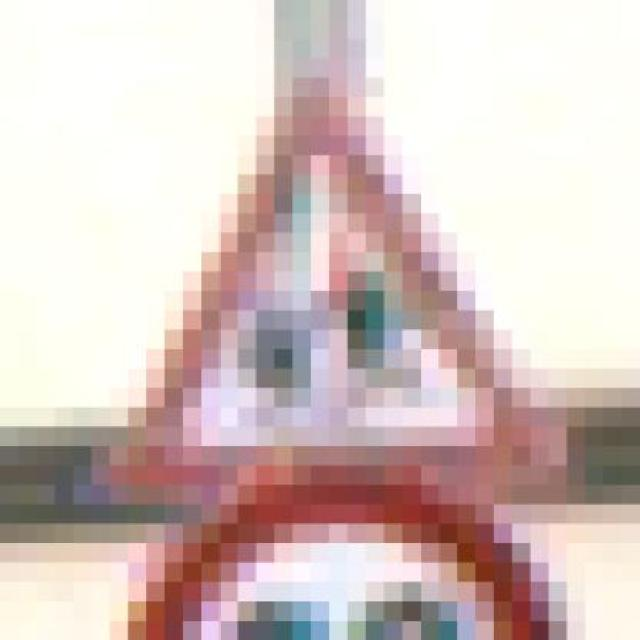Beware of children: (73, 77, 585, 505)
